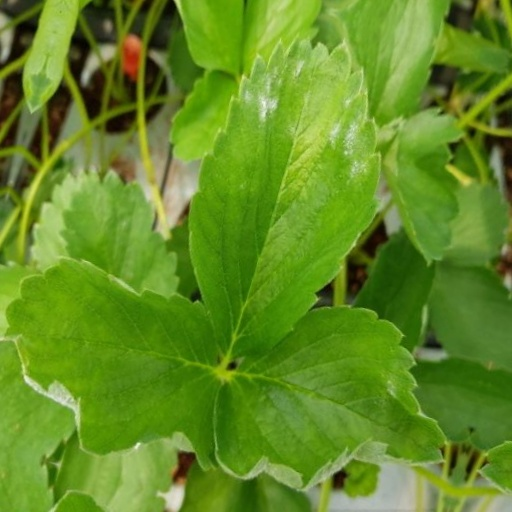Powdery Mildew Leaf: (176, 22, 362, 370), (254, 275, 495, 476), (28, 307, 282, 495)
